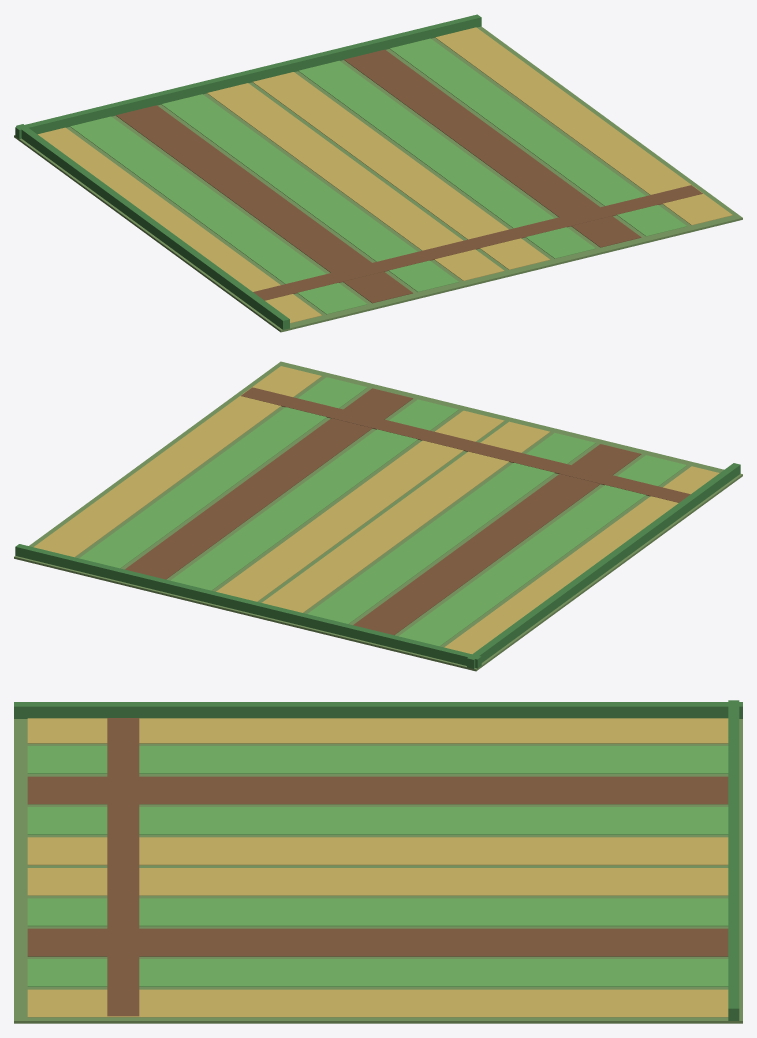
Rendered from FarFarmPatch.glb.
3 renders of one model, top to bottom at view 1: azimuth 30°, elevation 25°; view 2: azimuth 150°, elevation 25°; view 3: azimuth 270°, elevation 25°, orthographic. The views are drawn at different scales.
Visible parts, largest first — view 1: FTF_Distant_FarmlandPatch_80m; view 2: FTF_Distant_FarmlandPatch_80m; view 3: FTF_Distant_FarmlandPatch_80m.
Part boxes in pixels (bbox=[...]): FTF_Distant_FarmlandPatch_80m: bbox=[14, 14, 742, 332]; FTF_Distant_FarmlandPatch_80m: bbox=[14, 361, 742, 671]; FTF_Distant_FarmlandPatch_80m: bbox=[14, 700, 742, 1023].
Size of the model in its own units: 80 by 1.82 by 80.
